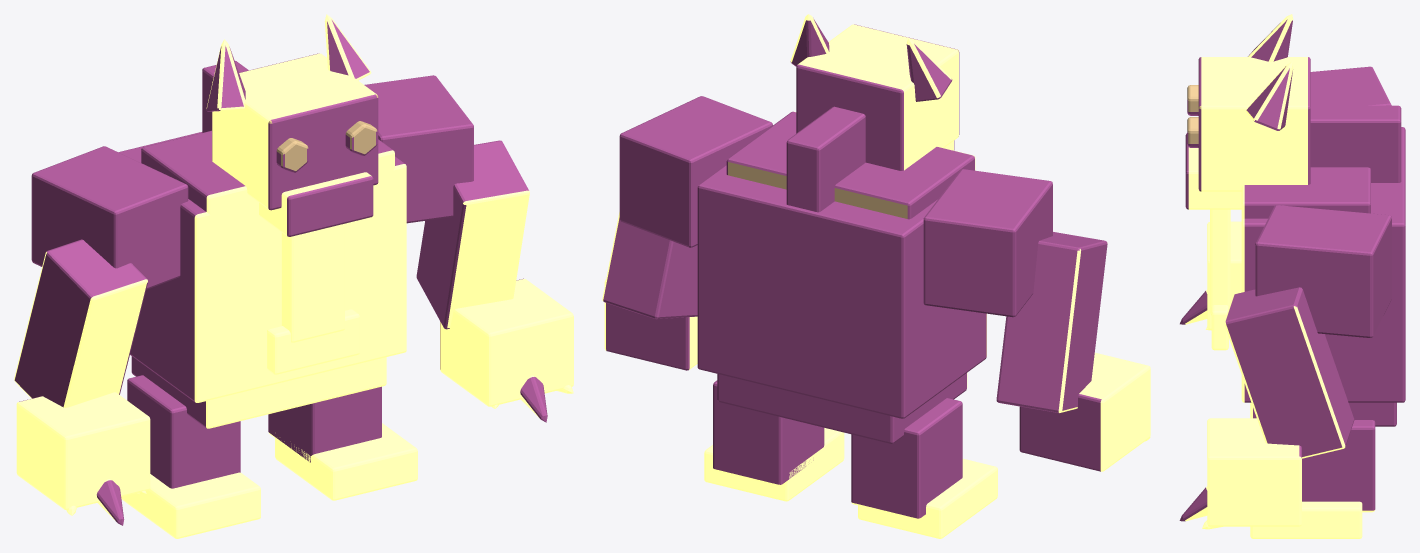
File: Monster_Brute.fbx
3 renders of one model, left to right at view 1: azimuth 30°, elevation 25°; view 2: azimuth 150°, elevation 25°; view 3: azimuth 270°, elevation 25°, orthographic. The views are drawn at different scales.
Visible parts, largest first — view 1: Monster_Brute; view 2: Monster_Brute; view 3: Monster_Brute.
Boxes of the visible parts, x1,y1,x2,y2 form: Monster_Brute: (14,14,573,538); Monster_Brute: (602,14,1150,538); Monster_Brute: (1179,14,1405,538).
Size of the model in its own units: 3.25 by 2.85 by 1.31.
